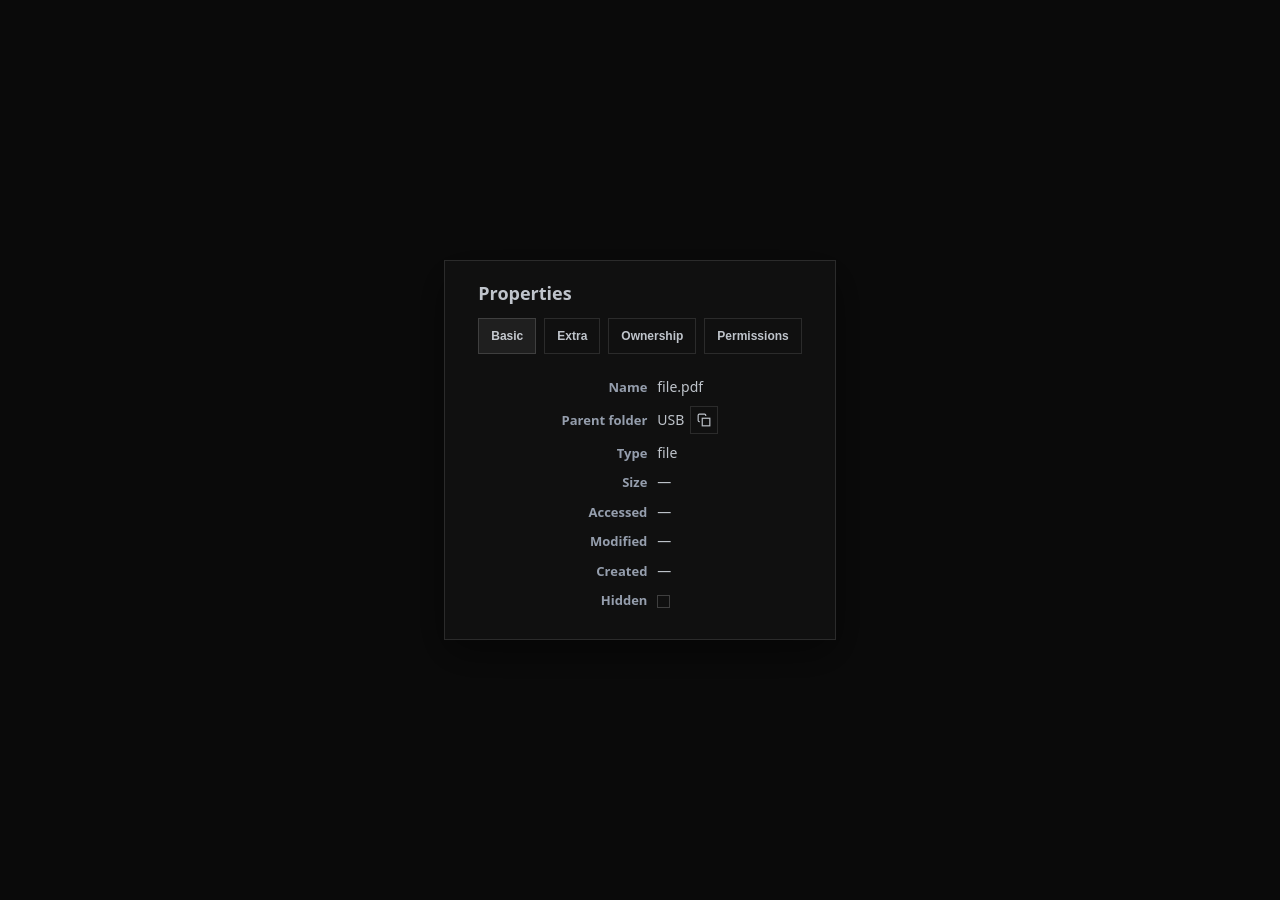
it: disables all edits for FAT directories and masks that cannot represent write protection
Click the button "Permissions" at coordinates (753, 336), box [704,318,802,354]
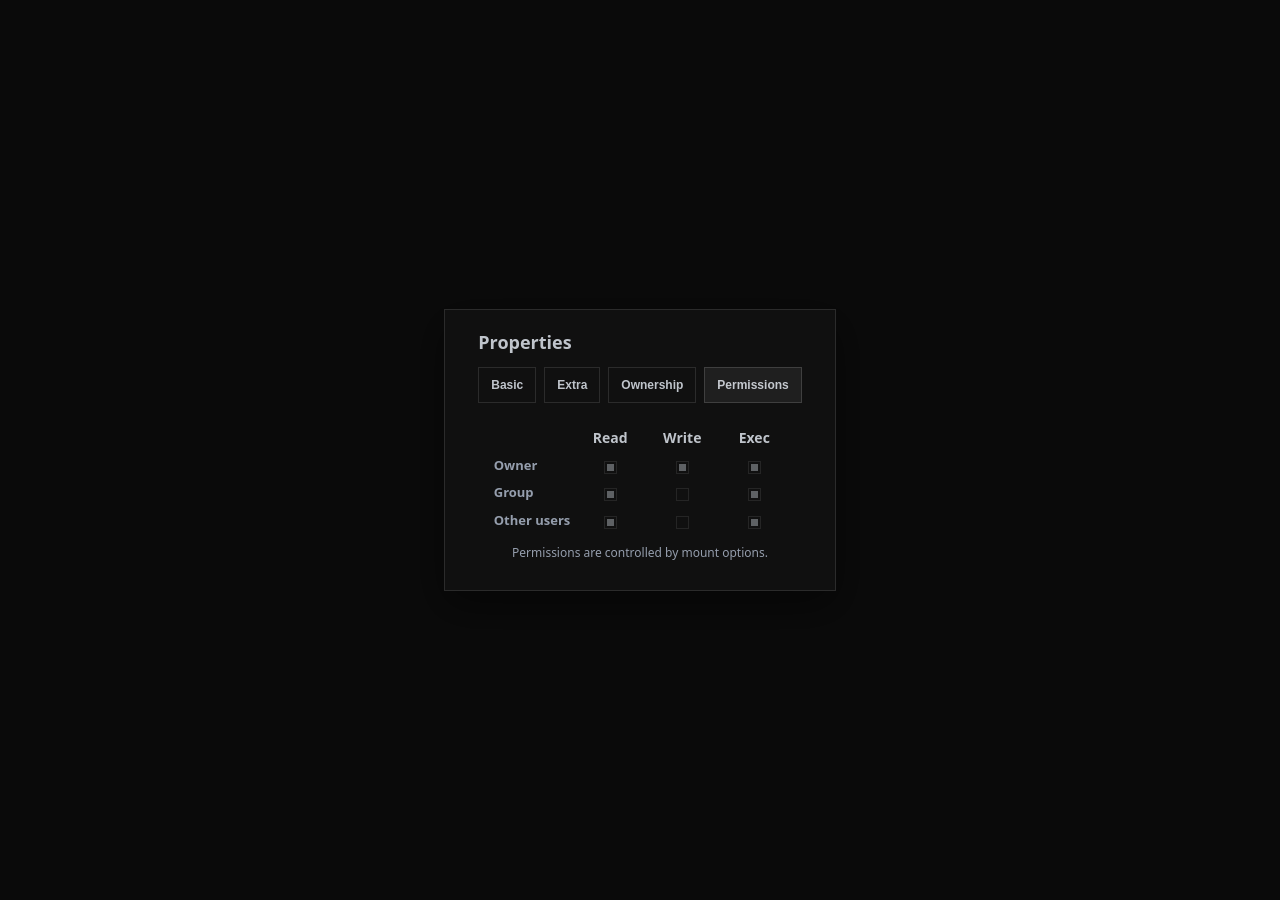
Now the text "Permissions are controlled by mount options." is shown, box [512,544,768,562]
